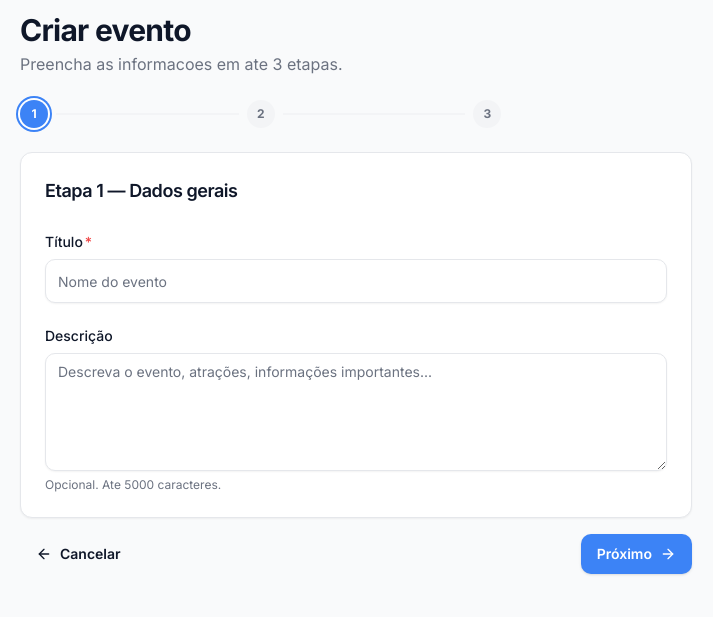
it: <CriarEditarEvento> › nao avanca sem preencher titulo (validacao inline)
Click the button "Próximo".
click(636, 554)  # box 581,534 -> 692,574
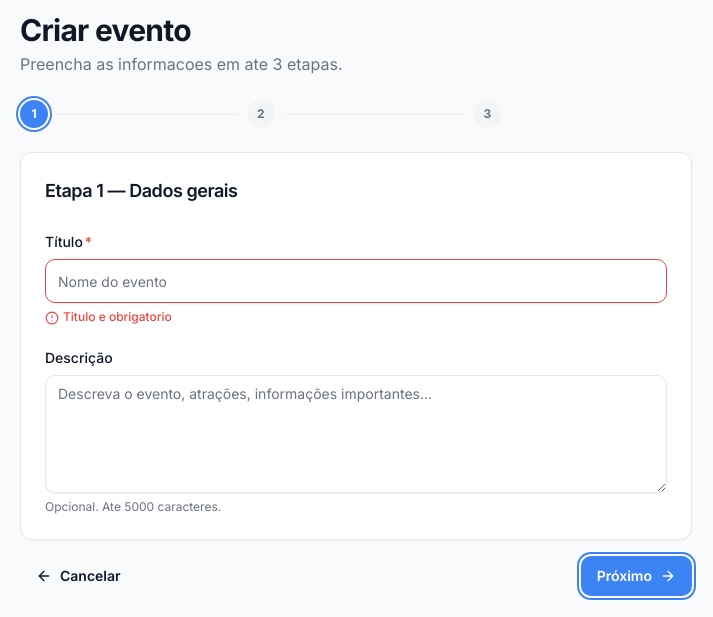
Check: the field labelled "Título*" is shown, box 45,259 -> 667,303
Check: the text "Titulo e obrigatorio" is shown, box 63,309 -> 172,325
